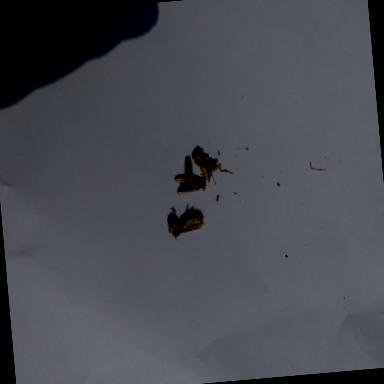pbw: (192, 146, 236, 188), (167, 210, 206, 242), (174, 174, 207, 196), (183, 156, 195, 184)
